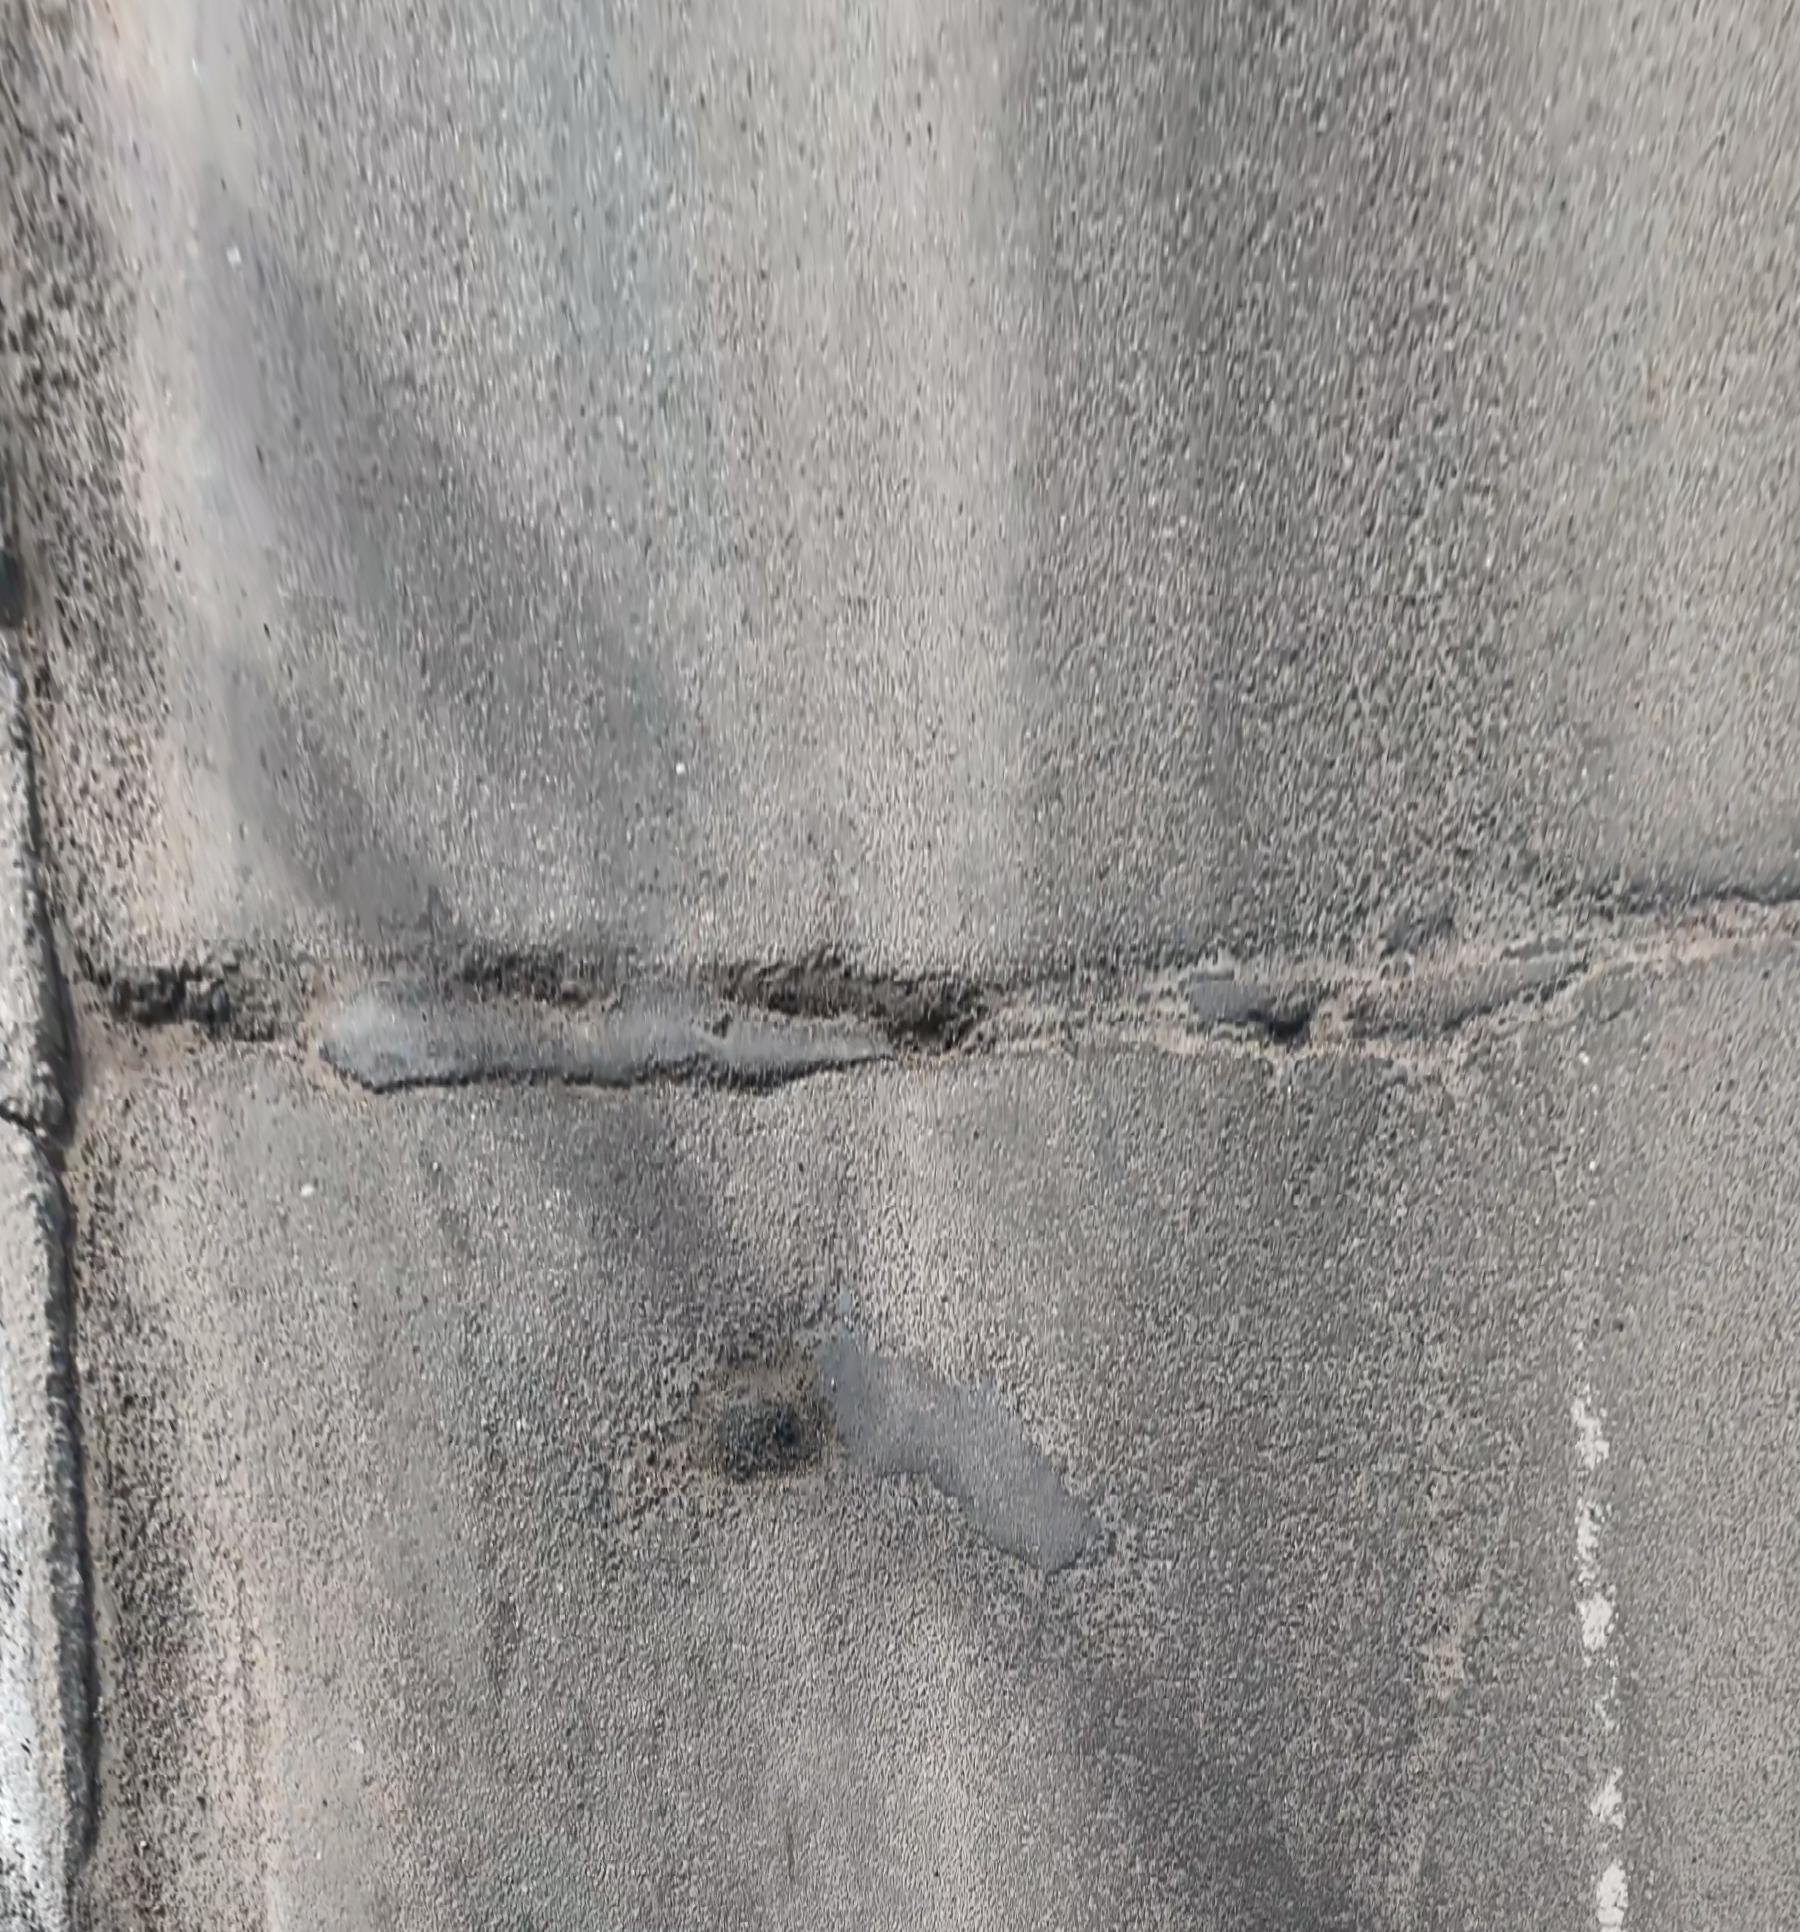pothole: (707, 864, 1798, 1088), (601, 1336, 834, 1543), (74, 954, 323, 1083), (1350, 941, 1594, 1039), (447, 942, 599, 1010), (1196, 978, 1326, 1020)
pothole_patch_good: (815, 1333, 1100, 1575)
pothole_patch_poor: (320, 981, 893, 1091)
